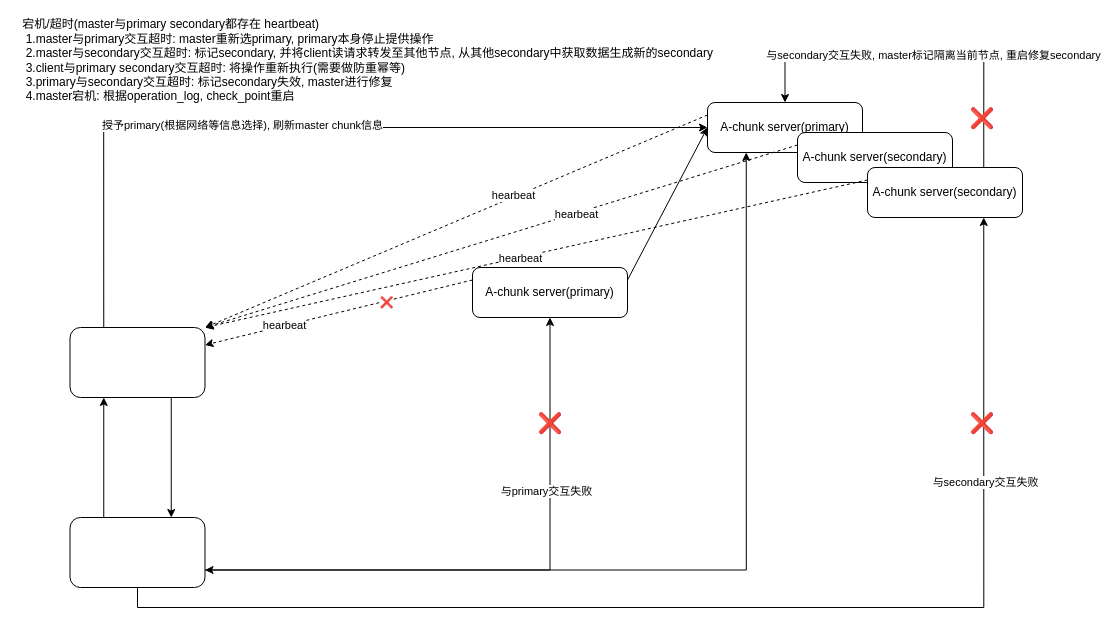
This 1117x633 diagram has some shape labels left out. Here are the shapes that lost their labels. From the top down, the centre of each, then its label:
At (x=137, y=362): "Master: 文件映射关系(chunk_id~chunk_server) primary, 其余节点状态".
At (x=137, y=552): "Client: write(data) read(chunk id)".
